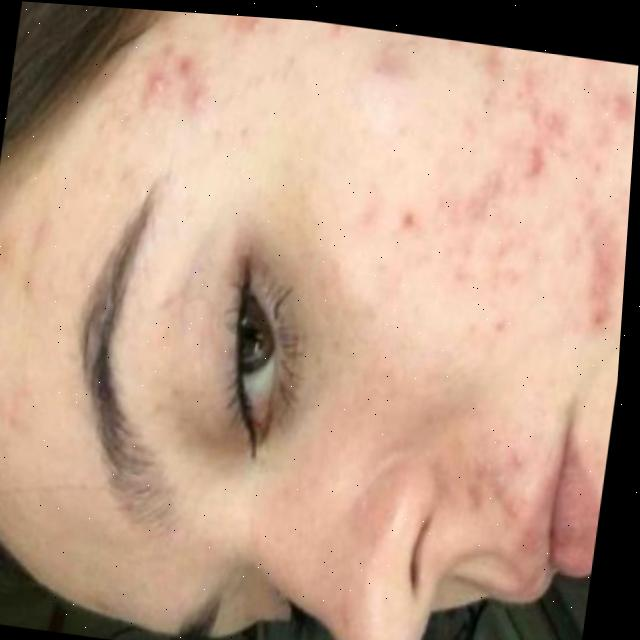Acne: (151, 11, 640, 333)
